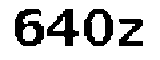0: (82, 9, 116, 50)
4: (46, 8, 80, 50)
6: (11, 7, 45, 51)
z: (116, 17, 149, 49)
